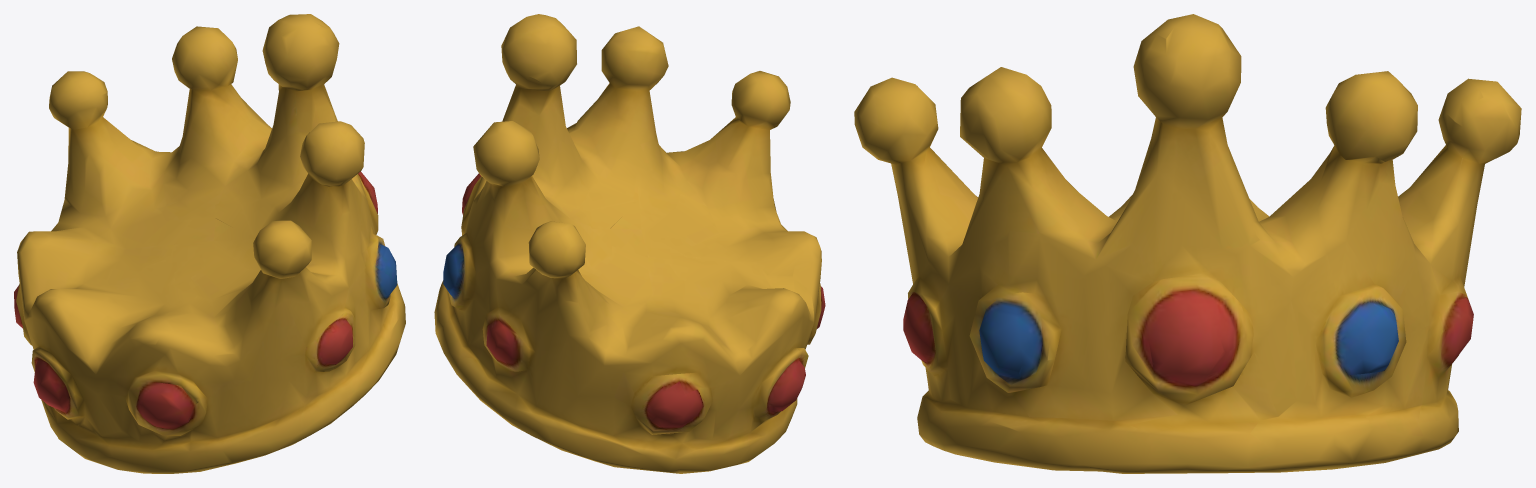
File: hat-crown.glb
3 renders of one model, left to right at view 1: azimuth 30°, elevation 25°; view 2: azimuth 150°, elevation 25°; view 3: azimuth 270°, elevation 25°, orthographic. The views are drawn at different scales.
Visible parts, largest first — view 1: tripo_node_e9c84b28-ca5d-47fe-ab03-c16b453005db; view 2: tripo_node_e9c84b28-ca5d-47fe-ab03-c16b453005db; view 3: tripo_node_e9c84b28-ca5d-47fe-ab03-c16b453005db.
Part boxes in pixels (x1,y1,x2,y2): tripo_node_e9c84b28-ca5d-47fe-ab03-c16b453005db: [14, 14, 405, 473]; tripo_node_e9c84b28-ca5d-47fe-ab03-c16b453005db: [434, 14, 825, 473]; tripo_node_e9c84b28-ca5d-47fe-ab03-c16b453005db: [854, 14, 1521, 473].
Bounding box in the file's own units: 0.8495 × 0.8973 × 1.
Materials: 1 (1 with a texture image).
